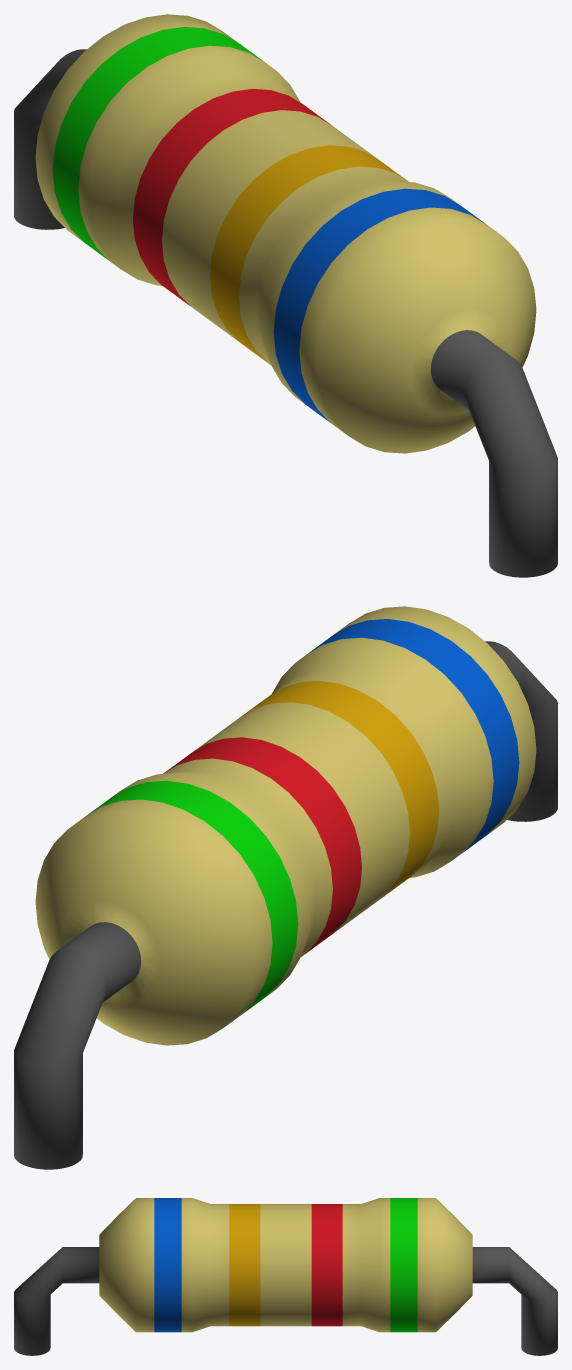
Rendered from resistor.obj.
3 views of the same model, one above another, from view 1: azimuth 30°, elevation 25°; view 2: azimuth 150°, elevation 25°; view 3: azimuth 270°, elevation 25° (orthographic). The views are drawn at different scales.
Visible parts, largest first — view 1: Cylinder; view 2: Cylinder; view 3: Cylinder.
Boxes of the visible parts, x1,y1,x2,y2 form: Cylinder: (14, 14, 557, 577); Cylinder: (14, 606, 557, 1169); Cylinder: (14, 1198, 557, 1355).
Bounding box in the file's own units: 2.22 × 2.6 × 8.92.
